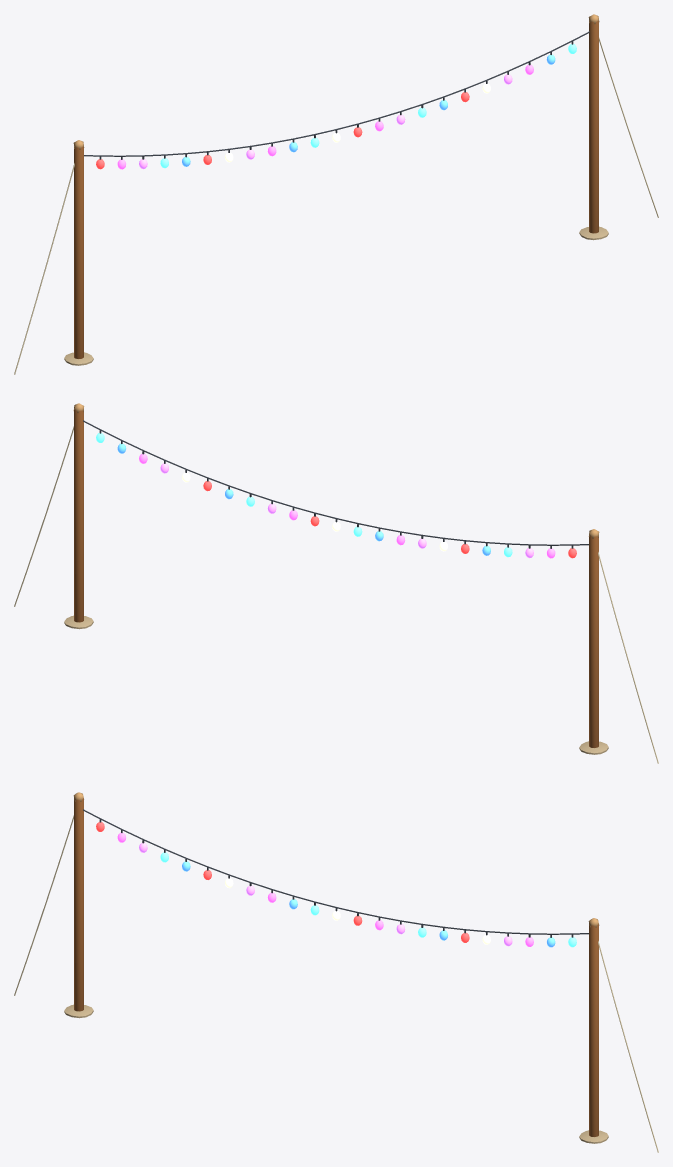
File: varal_luzes_praia.glb
The picture shows the model from 3 angles, top to bottom: view 1: azimuth 30°, elevation 25°; view 2: azimuth 150°, elevation 25°; view 3: azimuth 330°, elevation 25°; orthographic projection.
Visible parts, largest first — view 1: varal_luzes_praia, lampadas_2, lampadas_1; view 2: varal_luzes_praia, lampadas_2, lampadas_1; view 3: varal_luzes_praia, lampadas_2, lampadas_1.
Part boxes in pixels (x1,y1,x2,y2): varal_luzes_praia: (14, 14, 658, 374); lampadas_2: (96, 41, 576, 169); lampadas_1: (117, 52, 555, 169); varal_luzes_praia: (14, 403, 658, 763); lampadas_2: (96, 430, 576, 558); lampadas_1: (117, 441, 555, 558); varal_luzes_praia: (14, 792, 658, 1152); lampadas_2: (96, 819, 576, 947); lampadas_1: (117, 830, 555, 947).
Size of the model in its own units: 10.01 by 3.28 by 0.3843.
Materials: 7 (1 with a texture image).
